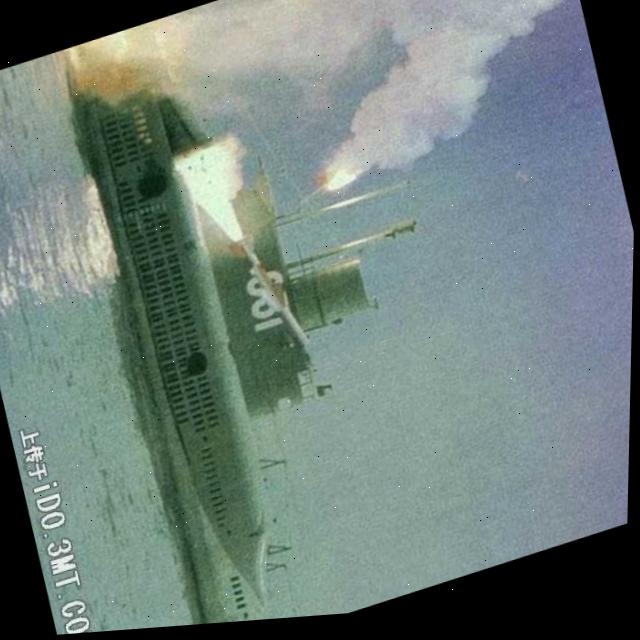missile: (206, 219, 322, 386)
